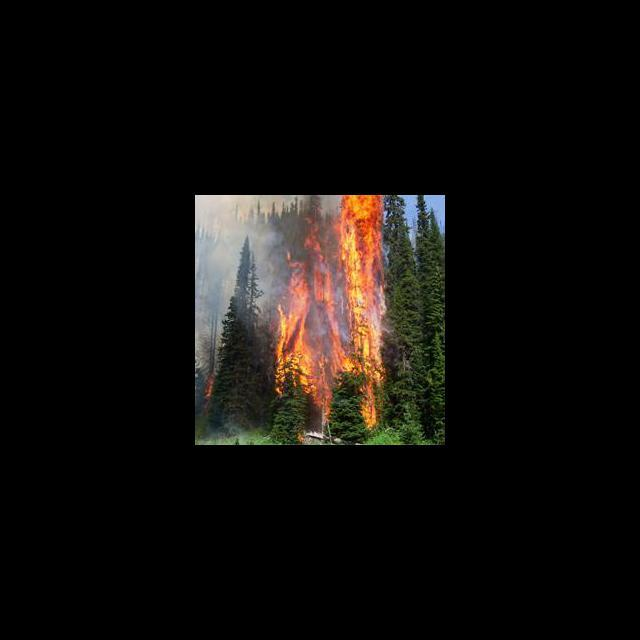Fire: (274, 195, 389, 429)
Smoke: (195, 195, 274, 355)
